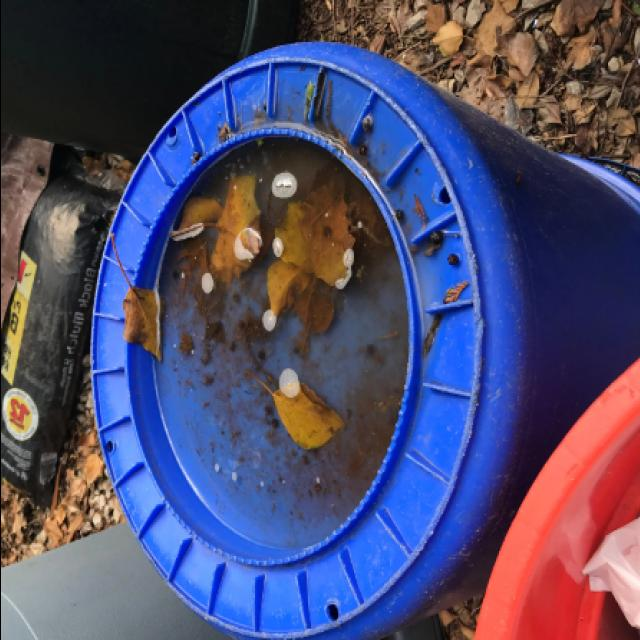Breeding Place: (98, 61, 476, 640)
